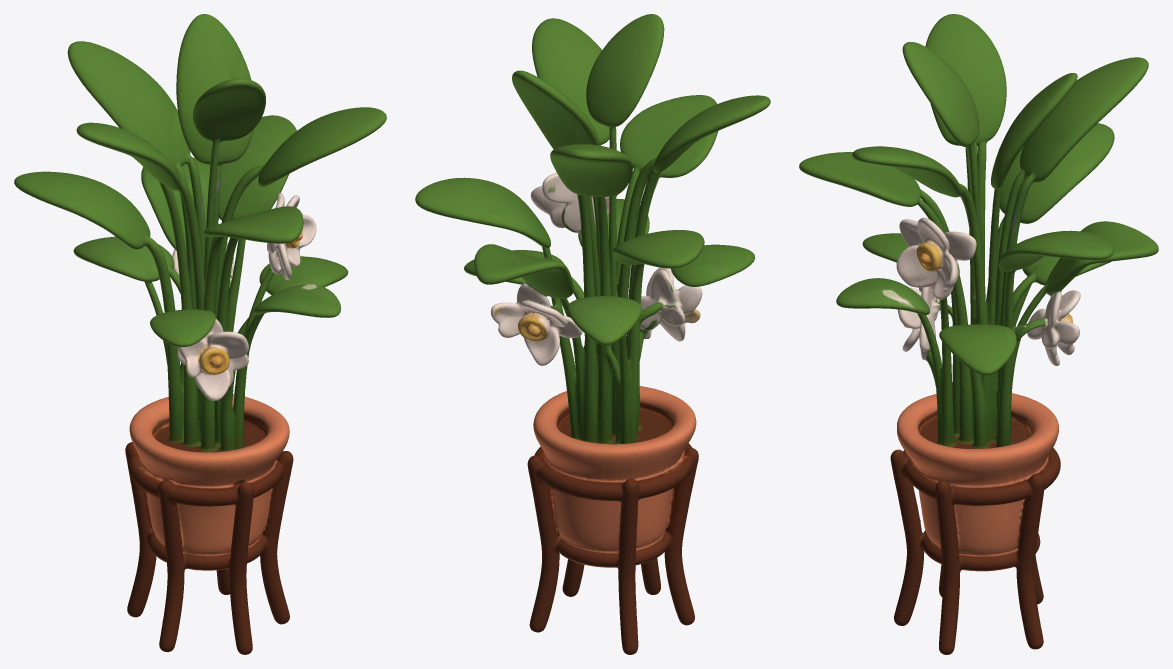
Rendered from Plant.glb.
The picture shows the model from 3 angles, left to right: view 1: azimuth 30°, elevation 25°; view 2: azimuth 150°, elevation 25°; view 3: azimuth 270°, elevation 25°; orthographic projection.
Bounding box in the file's own units: 0.9782 × 1.9 × 1.07.
Materials: 1 (1 with a texture image).
